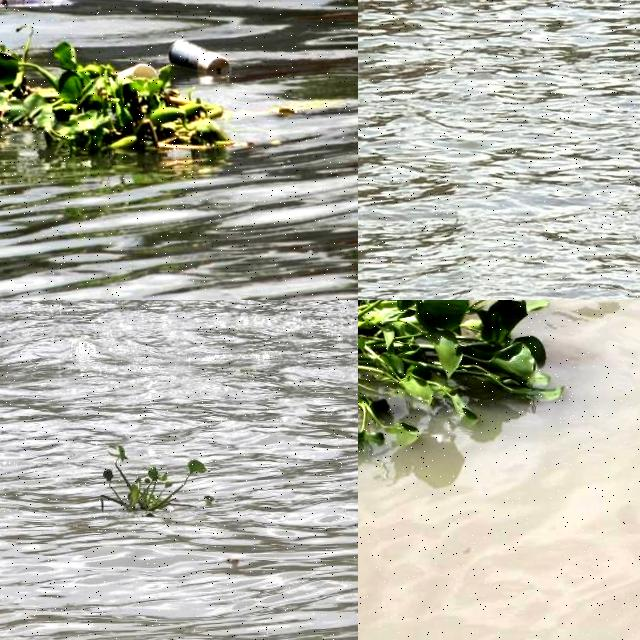can: (169, 38, 231, 77)
water-hyacinth: (1, 1, 244, 171), (359, 301, 562, 463), (359, 1, 640, 55), (92, 441, 215, 526)
